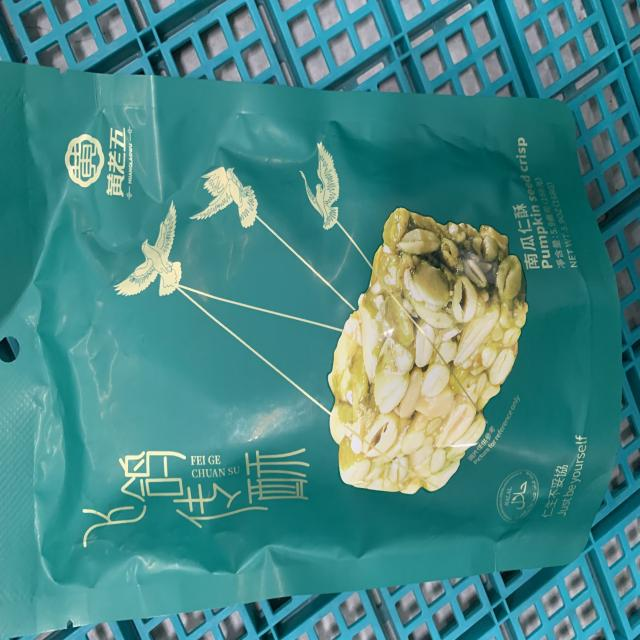object_name: (1, 65, 608, 575)
